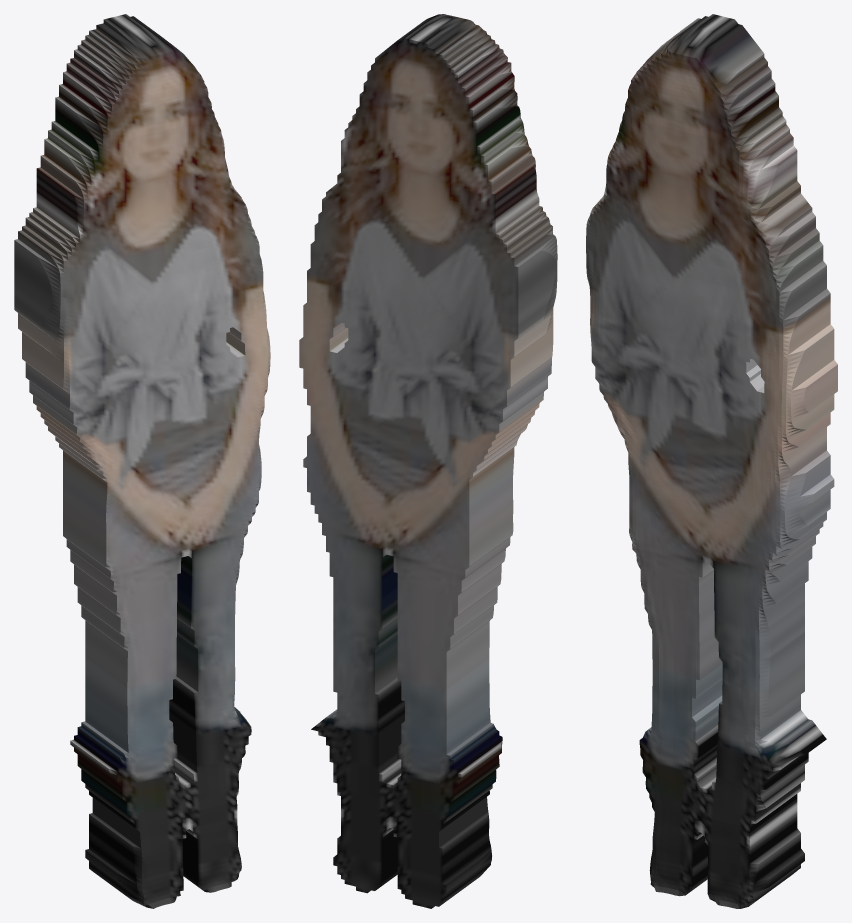
File: avatar_011852.glb
3 renders of one model, left to right at view 1: azimuth 30°, elevation 25°; view 2: azimuth 150°, elevation 25°; view 3: azimuth 330°, elevation 25°, orthographic. The views are drawn at different scales.
Visible parts, largest first — view 1: world; view 2: world; view 3: world.
Boxes of the visible parts, x1=… form: world: x1=14, y1=14, x2=270, y2=908; world: x1=299, y1=14, x2=557, y2=908; world: x1=586, y1=14, x2=837, y2=908.
Size of the model in its own units: 11.02 by 41.61 by 4.74.
